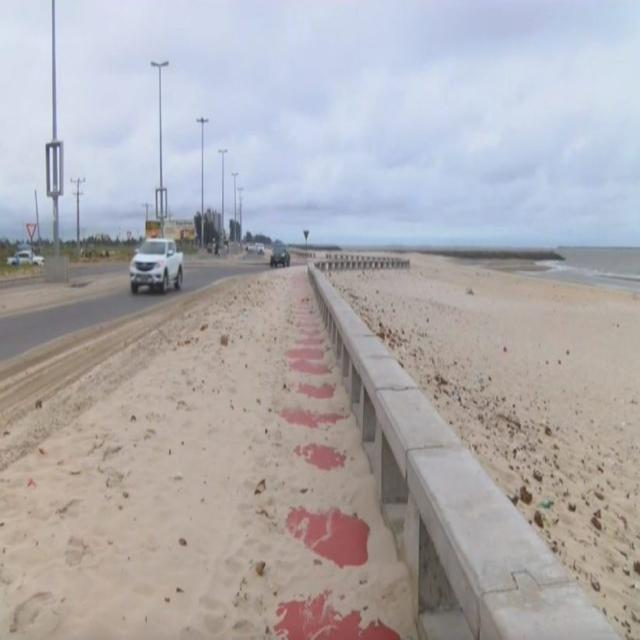car: (129, 238, 184, 296), (8, 250, 44, 266), (270, 244, 290, 266), (256, 244, 264, 256)
